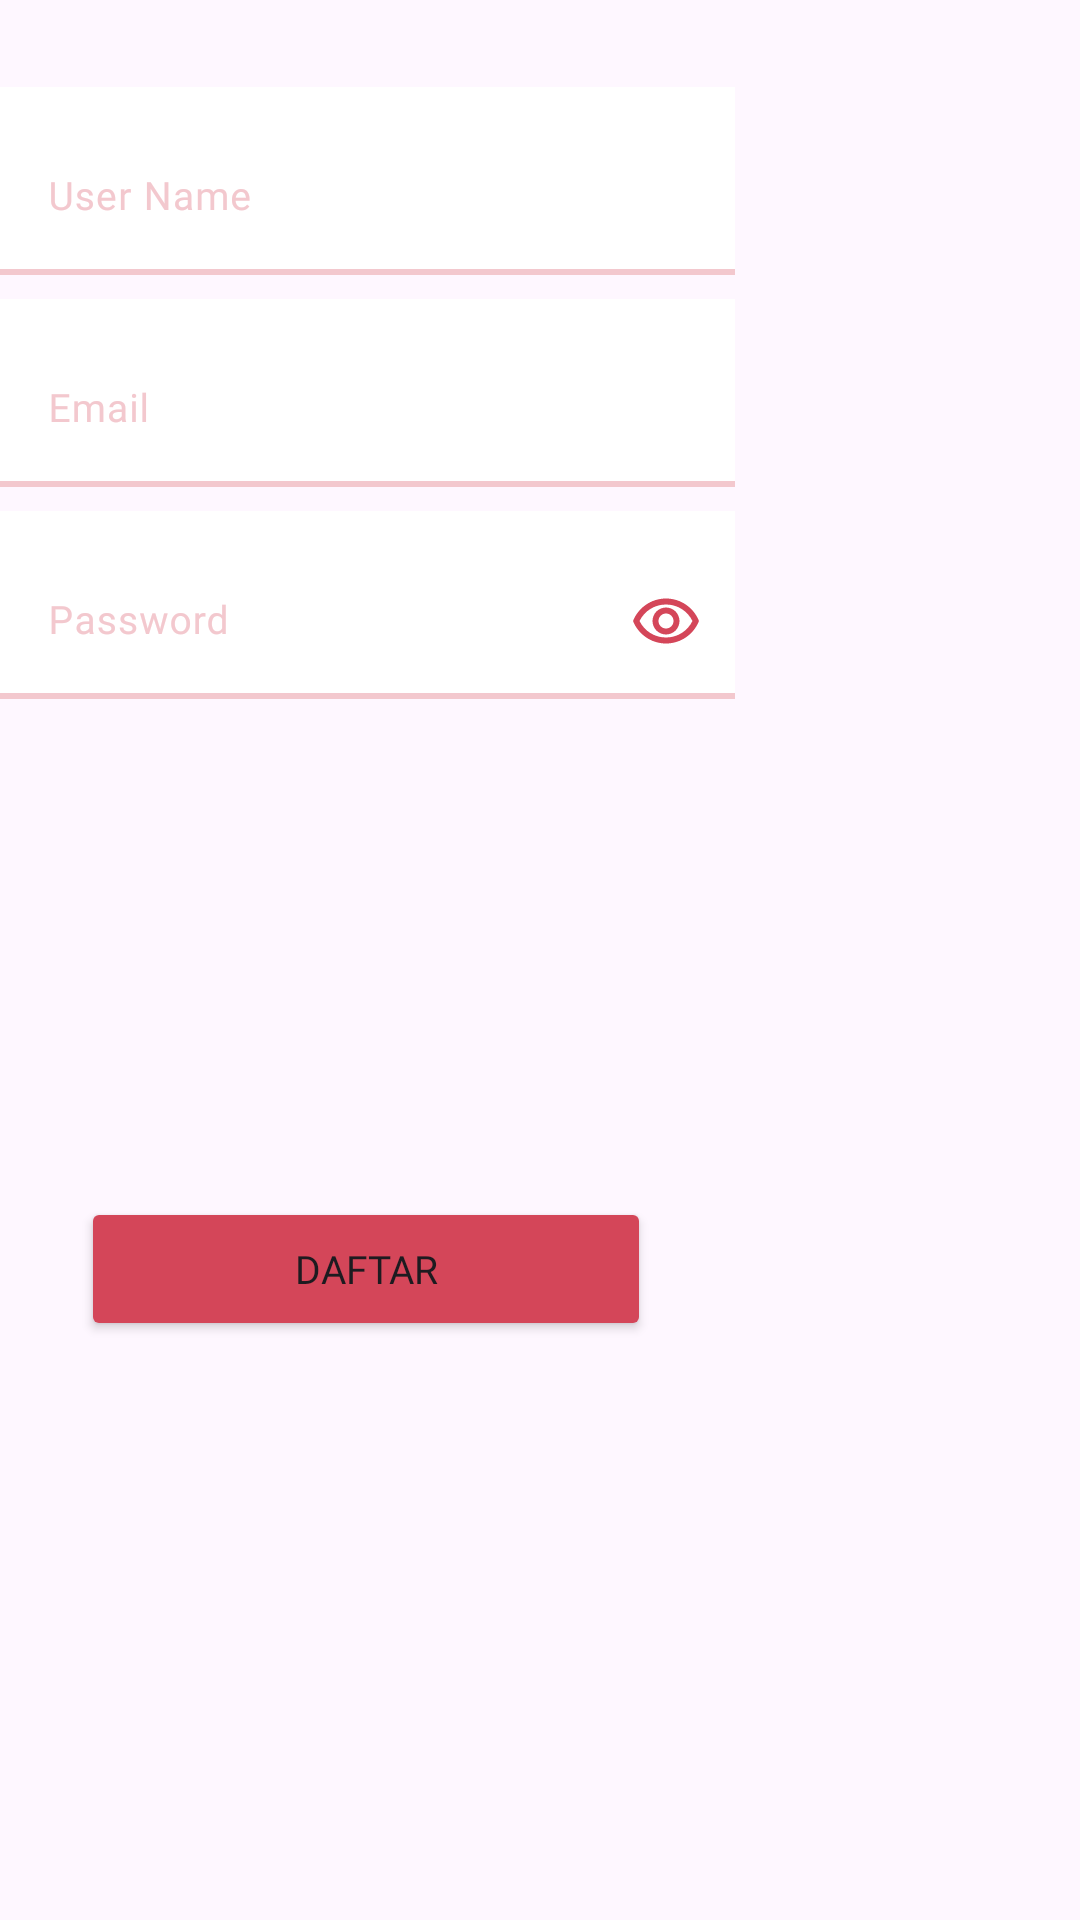

Where icons sit on this 1080px x 1920px app screen, as (x1, y1, x2, y2):
eye open: (633, 598, 699, 644)
